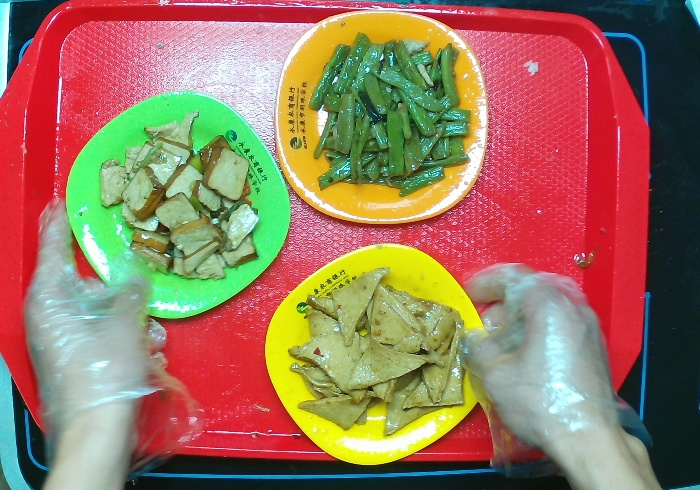YKMZ-Huang_Se_Fang_Die: (263, 243, 495, 467)
YKMZ-Ju_Se_Fang_Die: (276, 7, 493, 224)
YKMZ-Lv_Se_Fang_Die: (65, 90, 290, 322)
